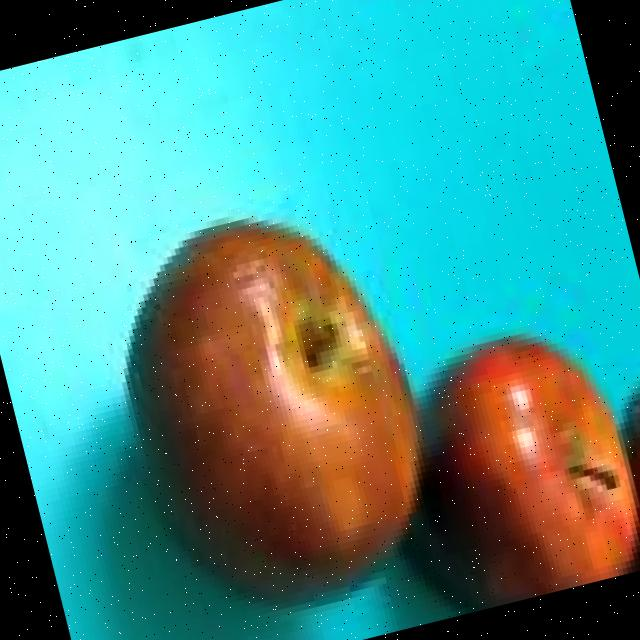Bad_Apple 0-1 day: (131, 226, 640, 611)
